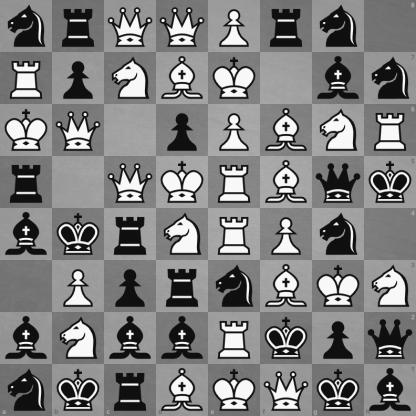B: (156, 364, 209, 416), (157, 53, 208, 104), (261, 105, 312, 156), (261, 157, 312, 208), (261, 261, 312, 312)
K: (209, 364, 260, 416), (1, 105, 52, 156), (157, 157, 208, 208), (209, 53, 260, 104), (313, 261, 364, 312)
N: (364, 260, 416, 312), (53, 313, 104, 364), (105, 53, 156, 104), (157, 209, 208, 260), (313, 105, 364, 156)
P: (53, 261, 104, 312), (209, 1, 260, 52), (209, 105, 260, 156), (261, 209, 312, 260)
Q: (260, 364, 312, 416), (53, 105, 104, 156), (105, 1, 156, 52), (105, 157, 156, 208), (157, 1, 208, 52)
R: (364, 104, 416, 156), (1, 53, 52, 104), (209, 157, 260, 208), (209, 209, 260, 260), (209, 313, 260, 364)
b: (364, 364, 416, 416), (1, 209, 52, 260), (1, 313, 52, 364), (105, 313, 156, 364), (157, 313, 208, 364), (313, 53, 364, 104)
board: (0, 0, 415, 415)
k: (364, 156, 416, 209), (52, 364, 104, 416), (312, 364, 364, 416), (53, 209, 104, 260), (261, 313, 312, 364)
n: (0, 364, 52, 416), (364, 52, 416, 104), (1, 1, 52, 52), (209, 261, 260, 312), (313, 1, 364, 52), (313, 209, 364, 260)
p: (53, 53, 104, 104), (105, 261, 156, 312), (157, 105, 208, 156), (313, 313, 364, 364)
q: (364, 312, 416, 364), (313, 157, 364, 208)
r: (104, 364, 156, 416), (1, 157, 52, 208), (53, 1, 104, 52), (105, 209, 156, 260), (157, 261, 208, 312), (261, 1, 312, 52)
